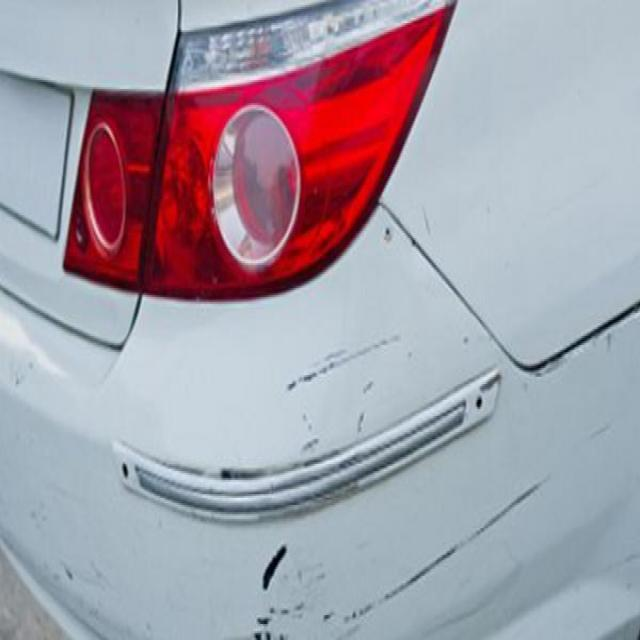scratch: (337, 466, 554, 640), (274, 317, 404, 408)
